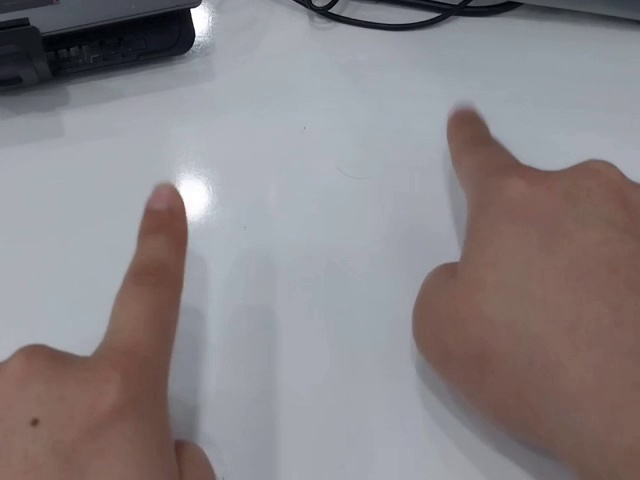fingers: (139, 179, 189, 239), (446, 105, 491, 142)
